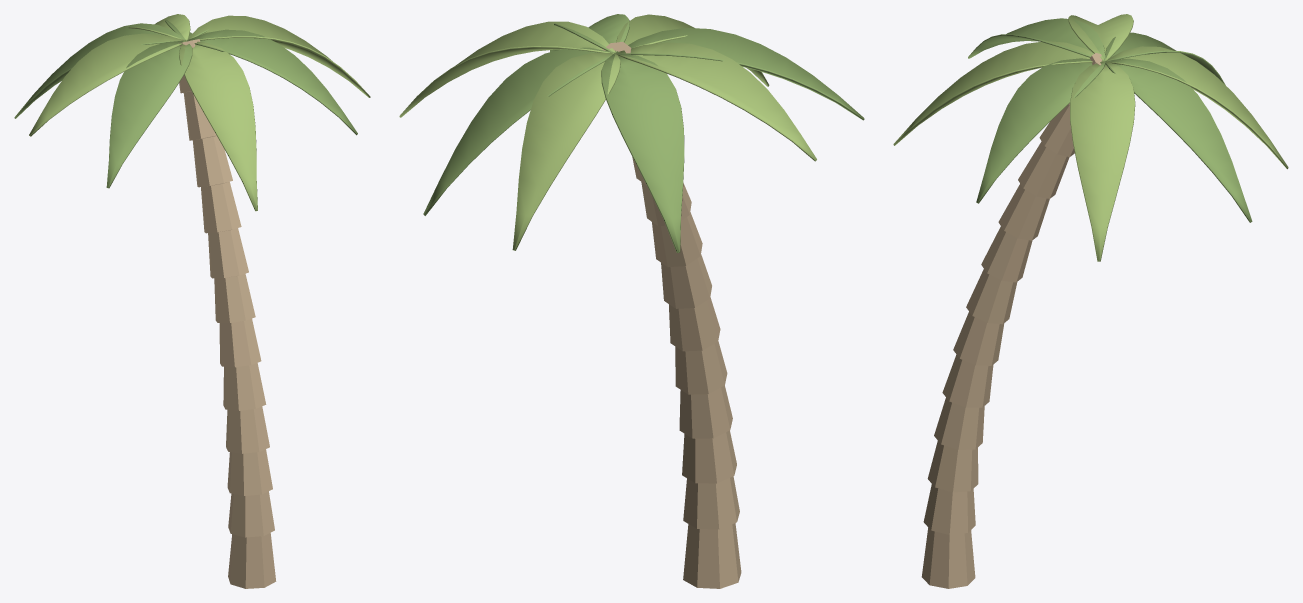
Rendered from Palm_2.gltf.
The picture shows the model from 3 angles, left to right: view 1: azimuth 30°, elevation 25°; view 2: azimuth 150°, elevation 25°; view 3: azimuth 270°, elevation 25°; orthographic projection. The views are drawn at different scales.
Visible parts, largest first — view 1: Palm_2; view 2: Palm_2; view 3: Palm_2.
Part boxes in pixels (x1,y1,x2,y2): Palm_2: [14, 14, 370, 588]; Palm_2: [399, 14, 864, 588]; Palm_2: [893, 14, 1288, 588].
Size of the model in its own units: 3.37 by 4.63 by 3.13.
